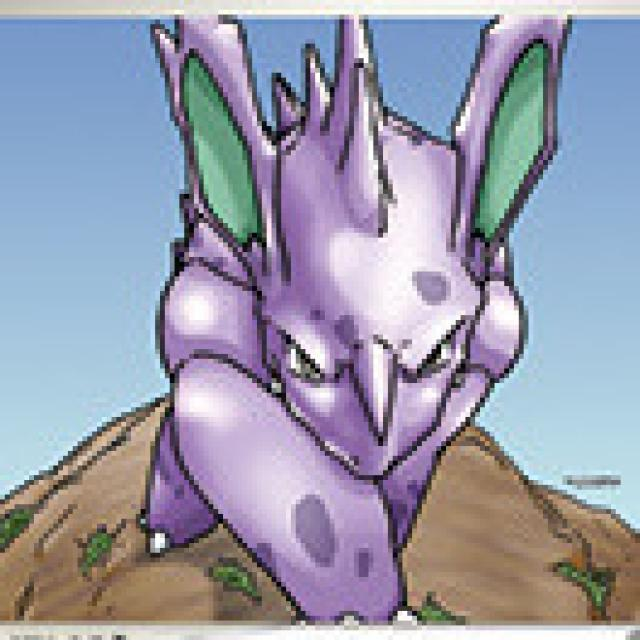Nidorino: (90, 24, 560, 640)
